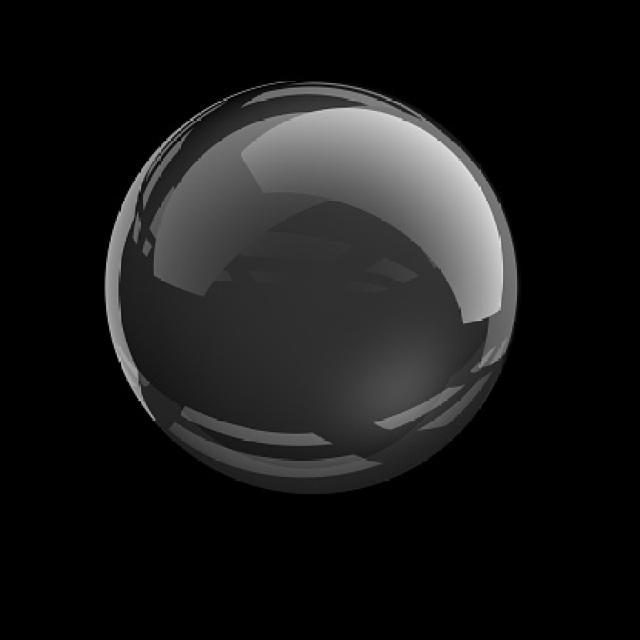hidden camera: (32, 43, 570, 536)
